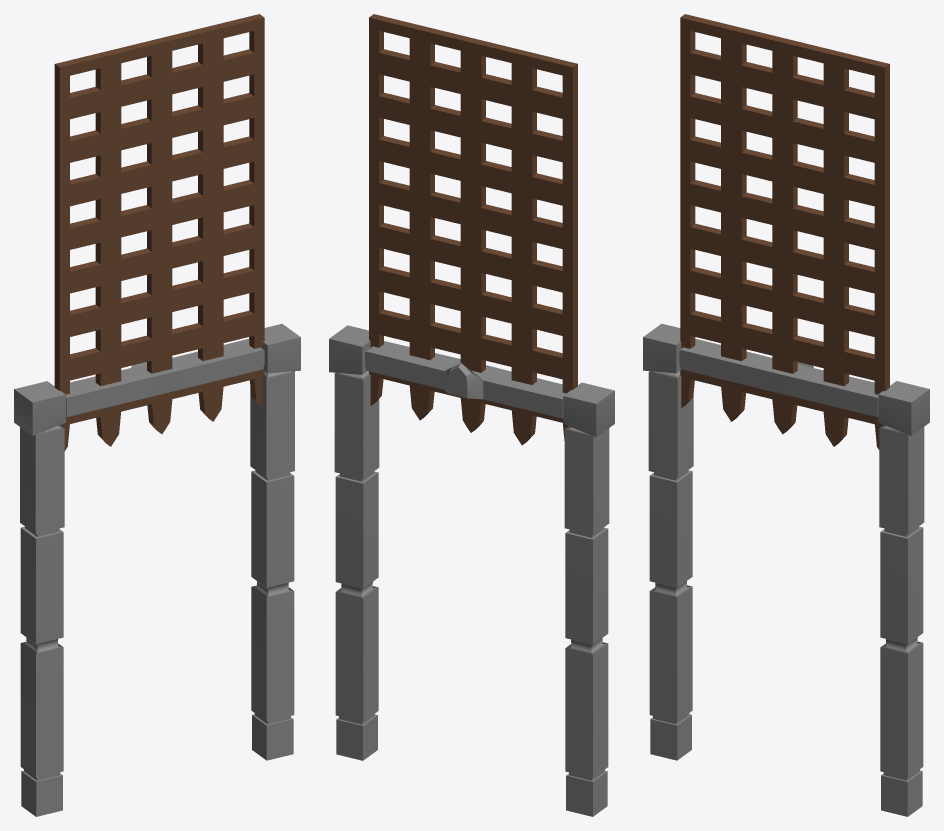
The model's file is door03_metal_grid.fbx.
3 views of the same model, side by side, from view 1: azimuth 30°, elevation 25°; view 2: azimuth 150°, elevation 25°; view 3: azimuth 330°, elevation 25° (orthographic).
Parts seen in each view (by area): view 1: pCube4, pCube2; view 2: pCube4, pCube2; view 3: pCube4, pCube2.
Part boxes in pixels (bbox=[...]): pCube4: bbox=[54, 14, 264, 450]; pCube2: bbox=[14, 323, 300, 816]; pCube4: bbox=[369, 14, 577, 445]; pCube2: bbox=[329, 325, 614, 816]; pCube4: bbox=[680, 14, 889, 449]; pCube2: bbox=[643, 323, 929, 816].
Size of the model in its own units: 206 by 543 by 30.72.
